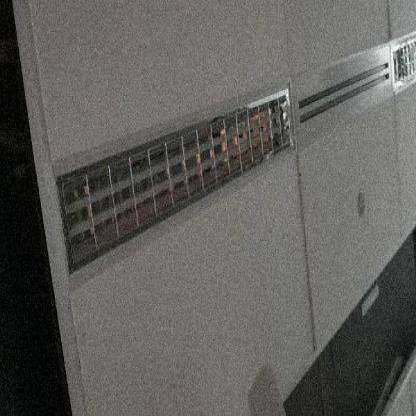light_off: (44, 68, 303, 284)
